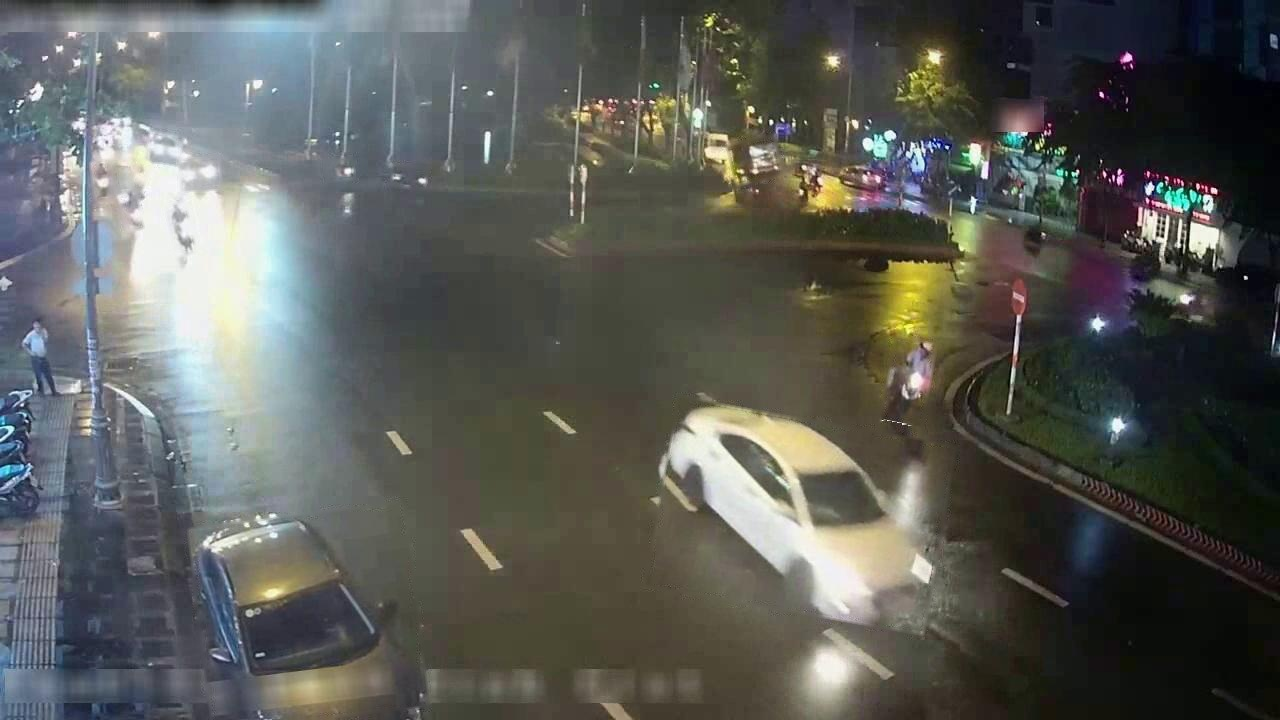Car: (659, 405, 932, 623), (193, 513, 423, 719), (180, 158, 219, 192), (840, 165, 883, 191), (147, 133, 183, 163)
Motorcycle: (0, 463, 39, 515), (0, 426, 28, 465), (0, 441, 26, 467)
Motorcyclist: (0, 317, 60, 418), (883, 340, 933, 424), (170, 203, 195, 254), (390, 167, 428, 189), (120, 192, 142, 229), (327, 159, 355, 183), (93, 162, 111, 196), (133, 160, 151, 193)
Pedestrian: (881, 365, 907, 420)
Sign: (1011, 278, 1027, 316)
Truck: (730, 140, 779, 182)
